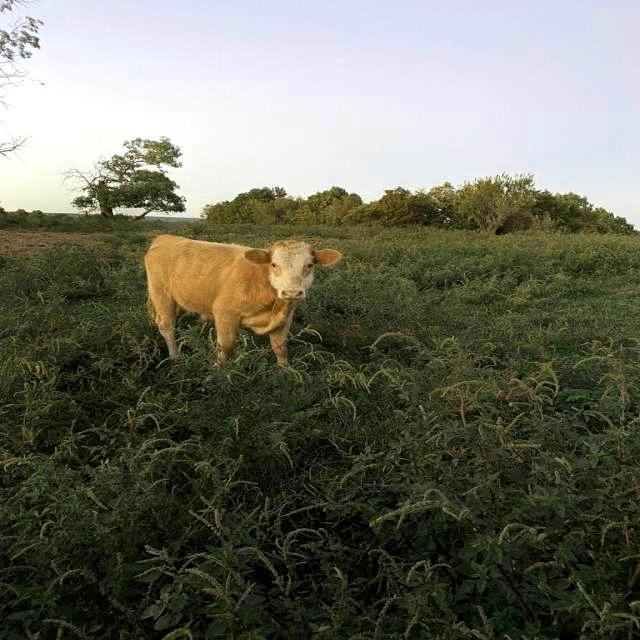COW: (145, 235, 341, 363)
